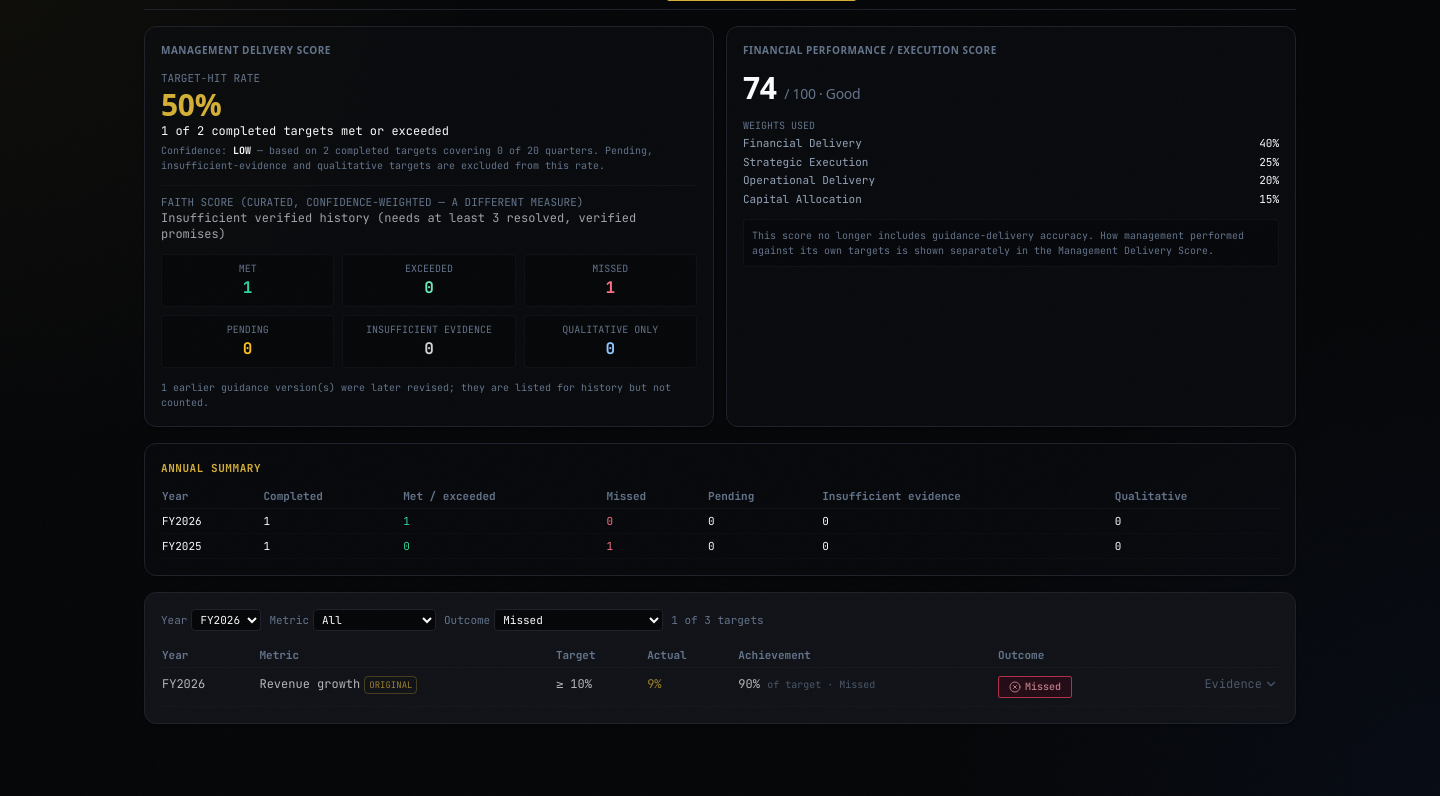
Test: scores are labelled separately, filters narrow the table, and rows expand to their evidence
This screenshot has width=1440, height=796.
Earlier steps of the test are not shown.
(page scrolled)
Expected: the row with test id "pva-row-X-FY2026-001" is shown, [161, 668, 1279, 706]
Select "All" in the dropdown named "Filter by year": (226, 620) [191, 609, 261, 631]
(page scrolled)
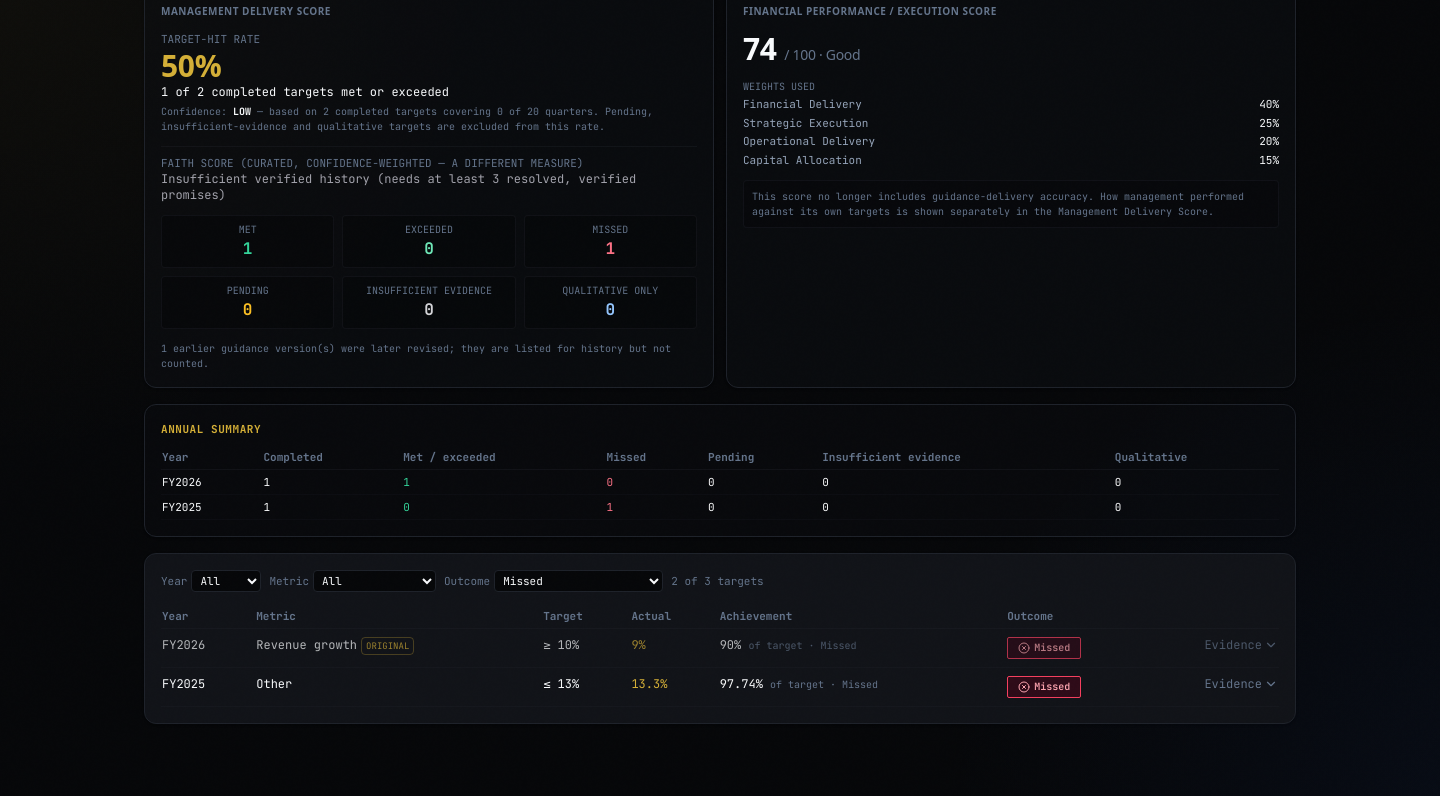
Select "All" in the dropdown named "Filter by outcome": (579, 581) [494, 570, 663, 592]
(page scrolled)
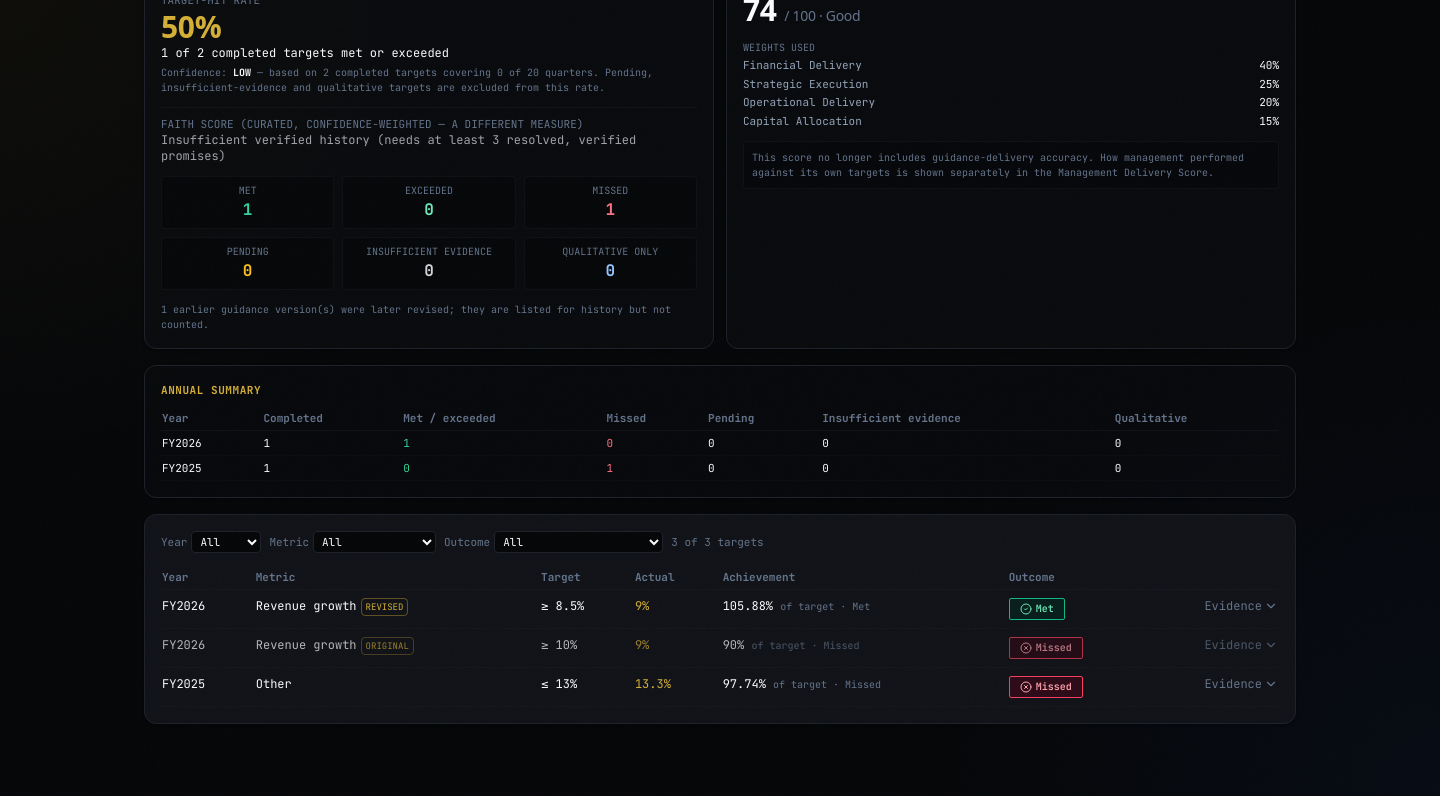
Select "Revenue growth" in the dropdown named "Filter by metric": (374, 542) [313, 531, 436, 553]
(page scrolled)
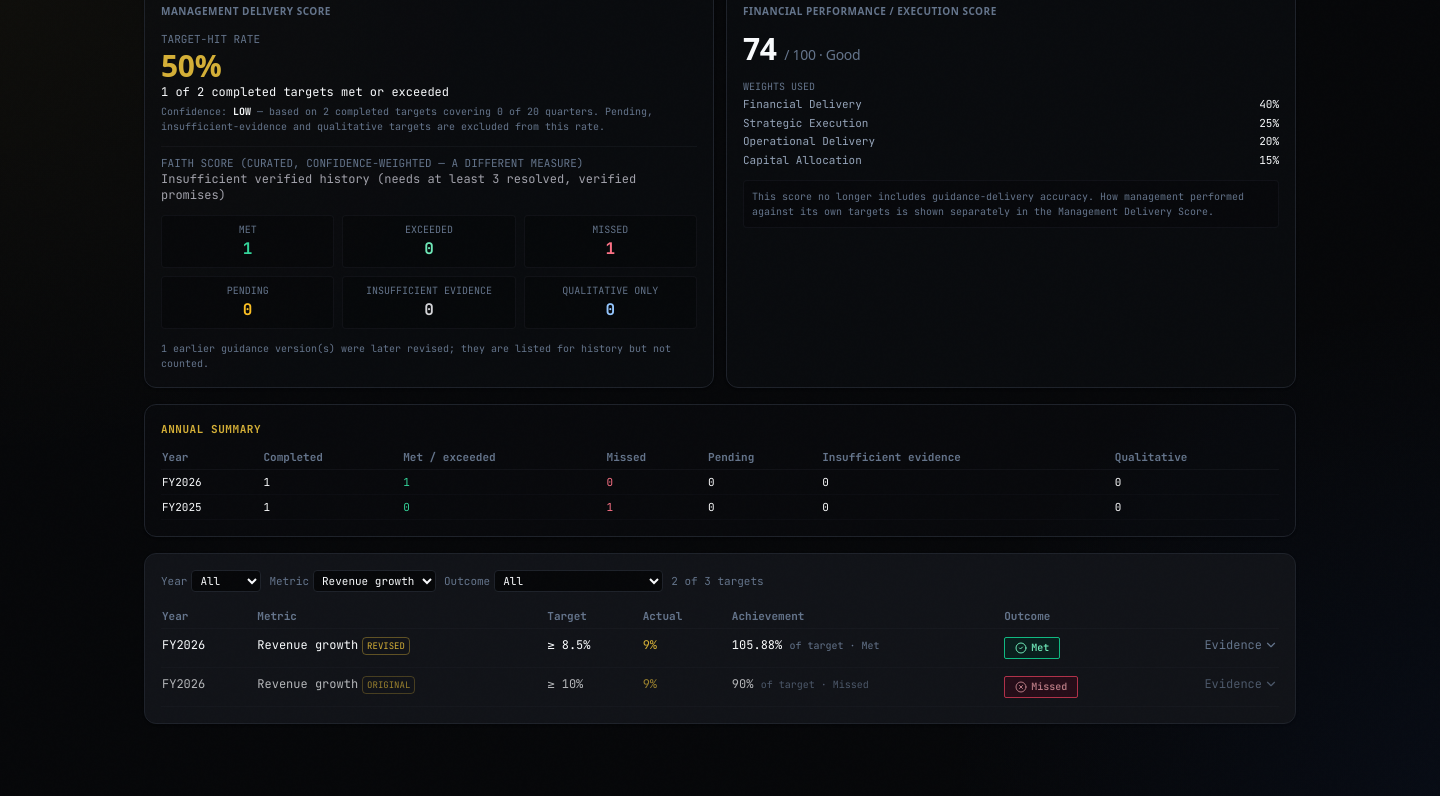
Select "All" in the dropdown named "Filter by metric": (374, 581) [313, 570, 436, 592]
(page scrolled)
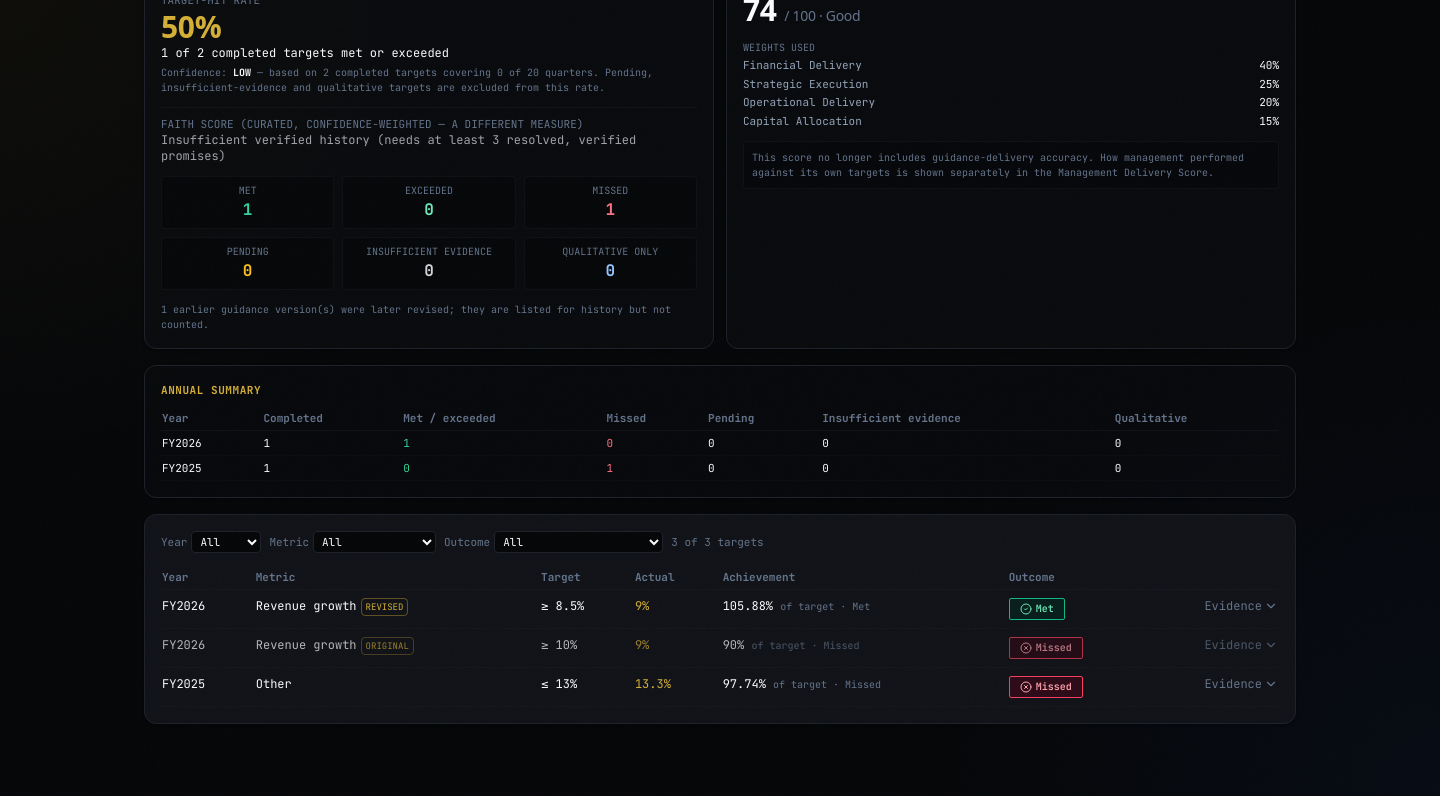
Click the button with aria-label "Show evidence for Other FY2025": (1241, 684) [1204, 676, 1278, 692]
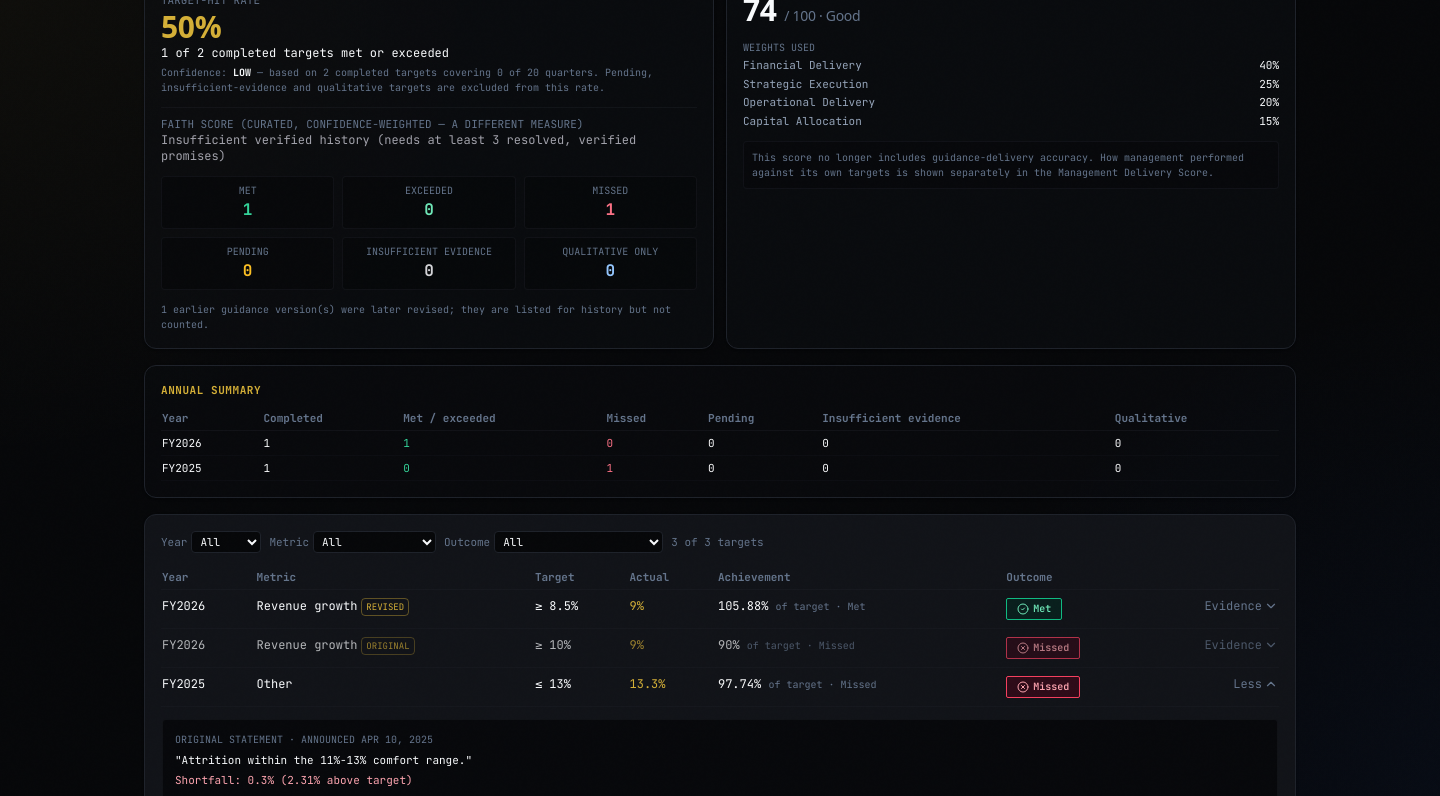
Click the button with aria-label "Show evidence for Revenue growth FY2026": (1241, 606) [1204, 598, 1278, 614]
(page scrolled)
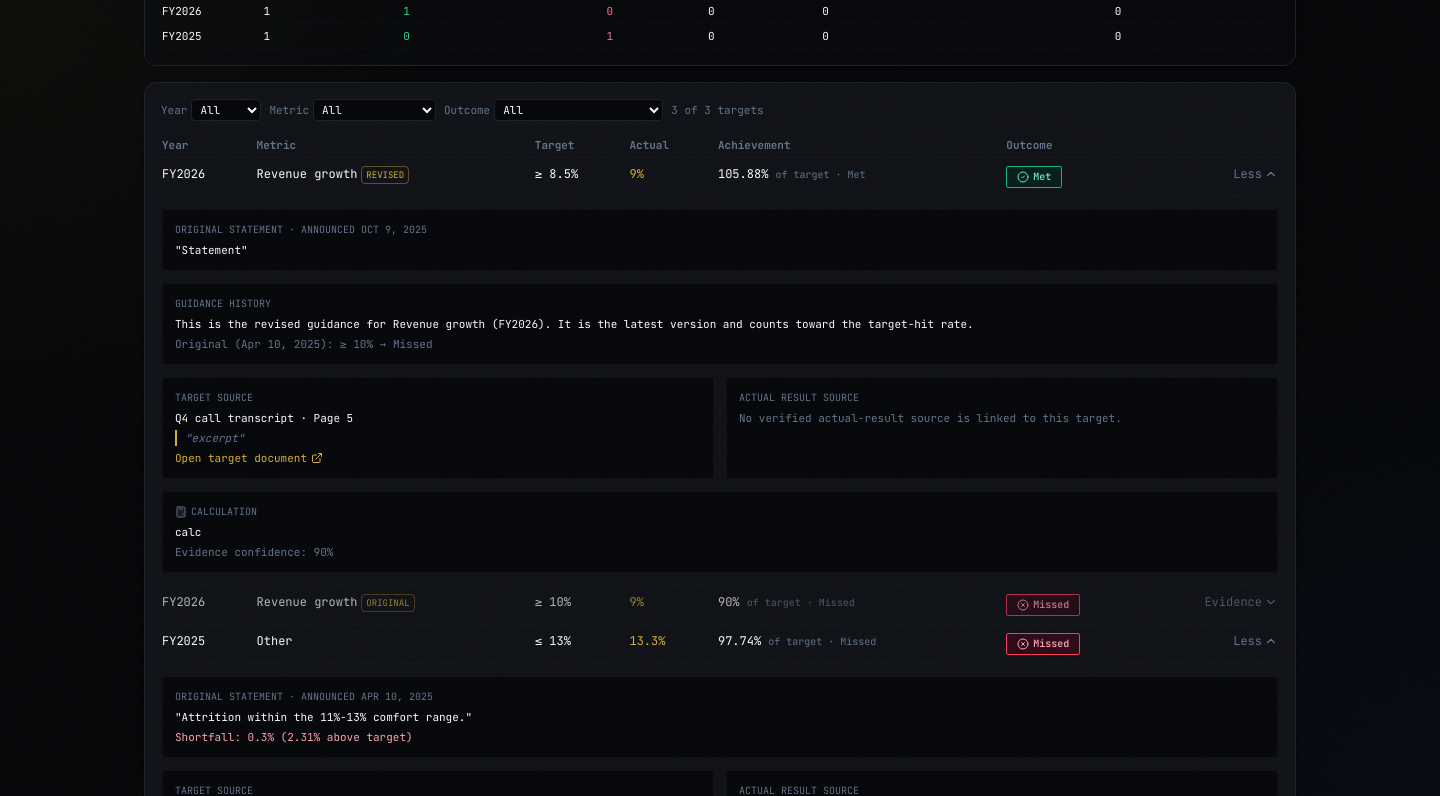
Now the element with test id "pva-detail-X-FY2026-002" shows "This is the revised guidance for Revenue growth (FY2026)", box [162, 209, 1278, 573]
Now the element with test id "pva-detail-X-FY2026-002" shows "counts toward the target-hit rate", box [558, 317, 974, 331]
